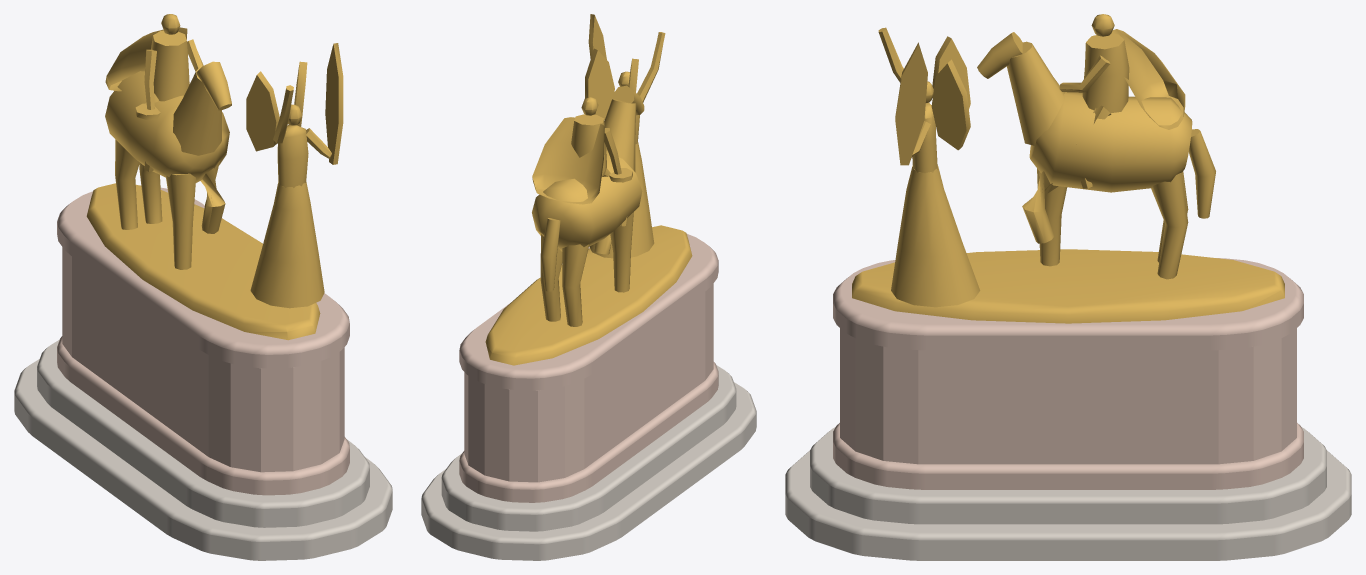
File: nyc-sherman-monument.glb
3 renders of one model, left to right at view 1: azimuth 30°, elevation 25°; view 2: azimuth 150°, elevation 25°; view 3: azimuth 270°, elevation 25°, orthographic. The views are drawn at different scales.
Visible parts, largest first — view 1: William Tecumseh Sherman Monument; view 2: William Tecumseh Sherman Monument; view 3: William Tecumseh Sherman Monument.
Boxes of the visible parts, x1,y1,x2,y2 form: William Tecumseh Sherman Monument: [14, 14, 392, 560]; William Tecumseh Sherman Monument: [421, 14, 756, 560]; William Tecumseh Sherman Monument: [785, 14, 1351, 560].
Size of the model in its own units: 3.7 by 7.64 by 7.91.
